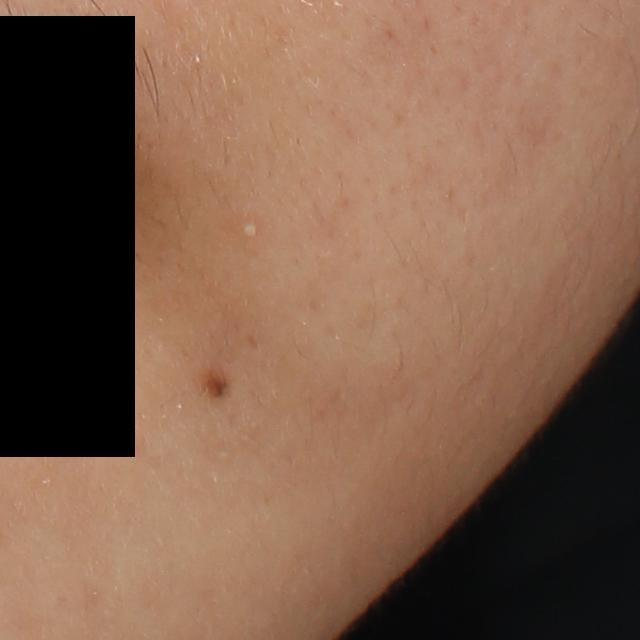nevus: (203, 366, 231, 401)
pustule: (238, 220, 262, 245)
